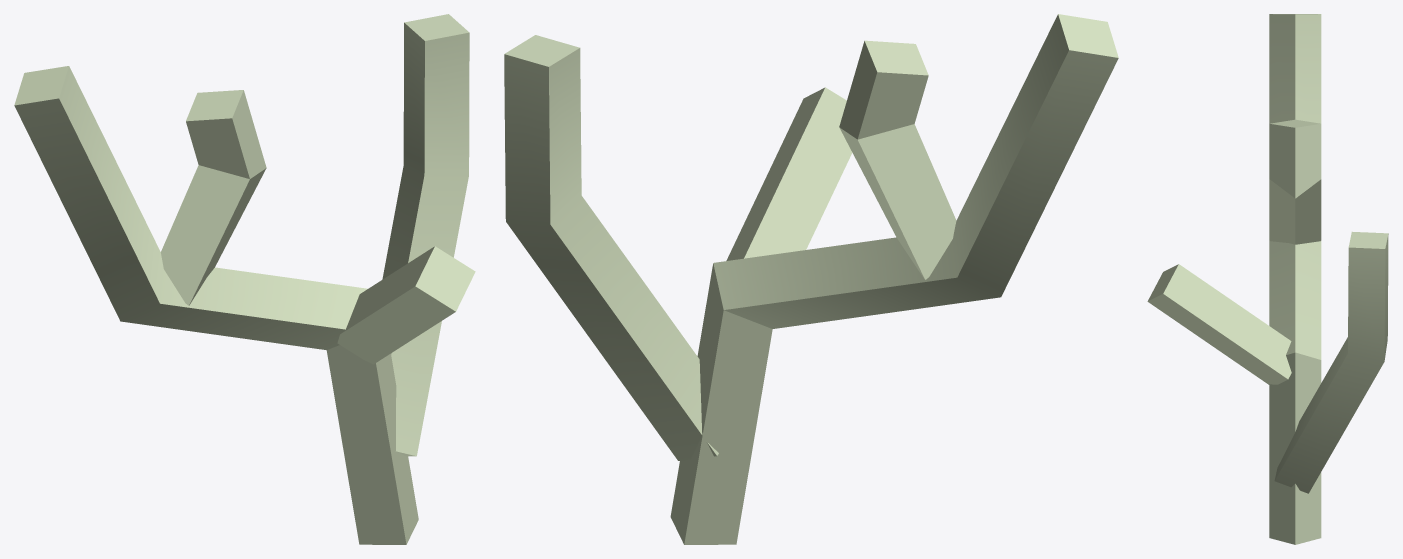
File: PL002_PlantB01.FBX
3 views of the same model, side by side, from view 1: azimuth 30°, elevation 25°; view 2: azimuth 150°, elevation 25°; view 3: azimuth 270°, elevation 25° (orthographic). The views are drawn at different scales.
Parts seen in each view (by area): view 1: PL002_PlantB01; view 2: PL002_PlantB01; view 3: PL002_PlantB01.
Boxes of the visible parts, x1,y1,x2,y2 form: PL002_PlantB01: (14, 14, 475, 544); PL002_PlantB01: (504, 14, 1118, 544); PL002_PlantB01: (1147, 14, 1388, 544).
Size of the model in its own units: 97.76 by 104 by 55.19.
Materials: 1 (1 with a texture image).
